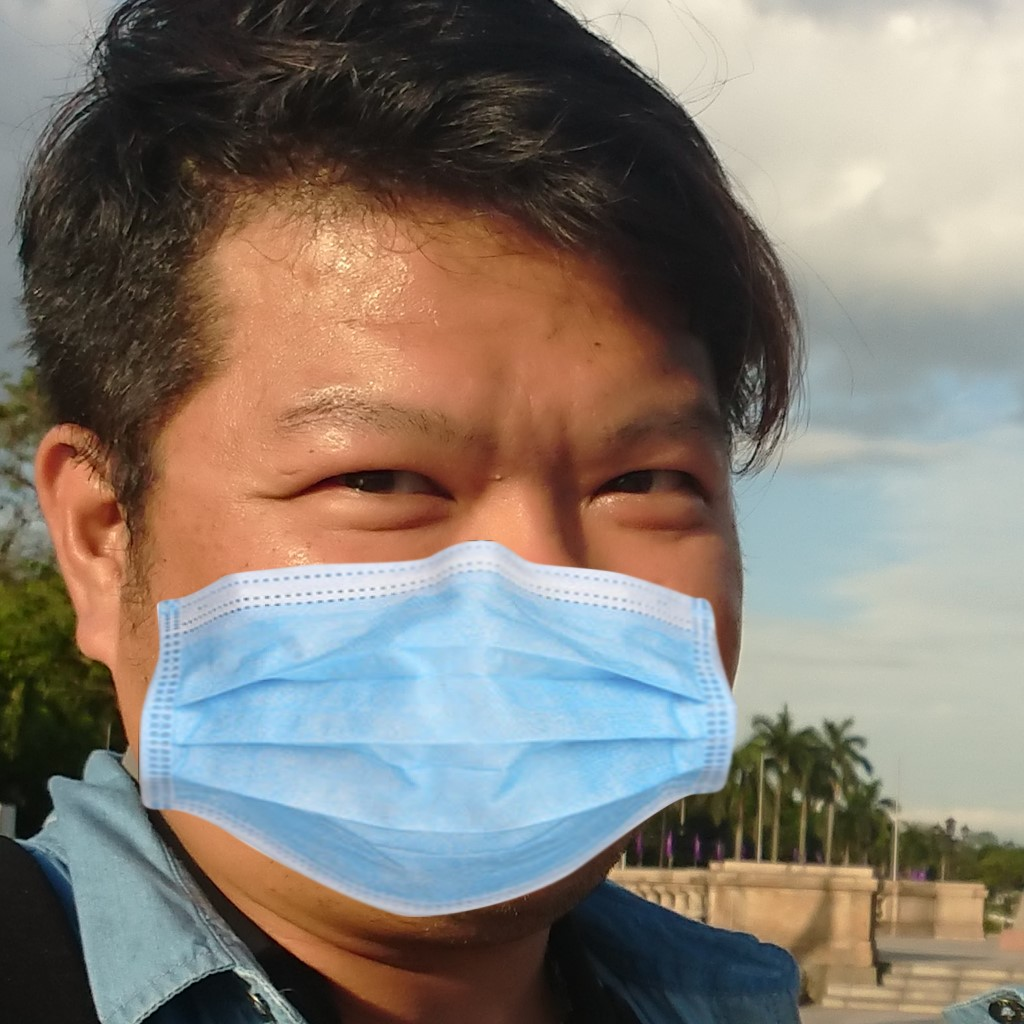con_mascara: (99, 188, 751, 923)
